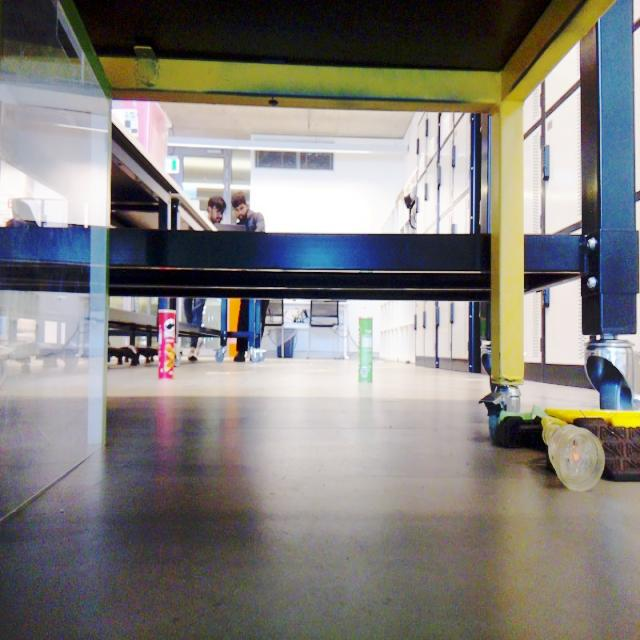greenpringles: (353, 310, 379, 388)
redpringles: (154, 302, 189, 388)
